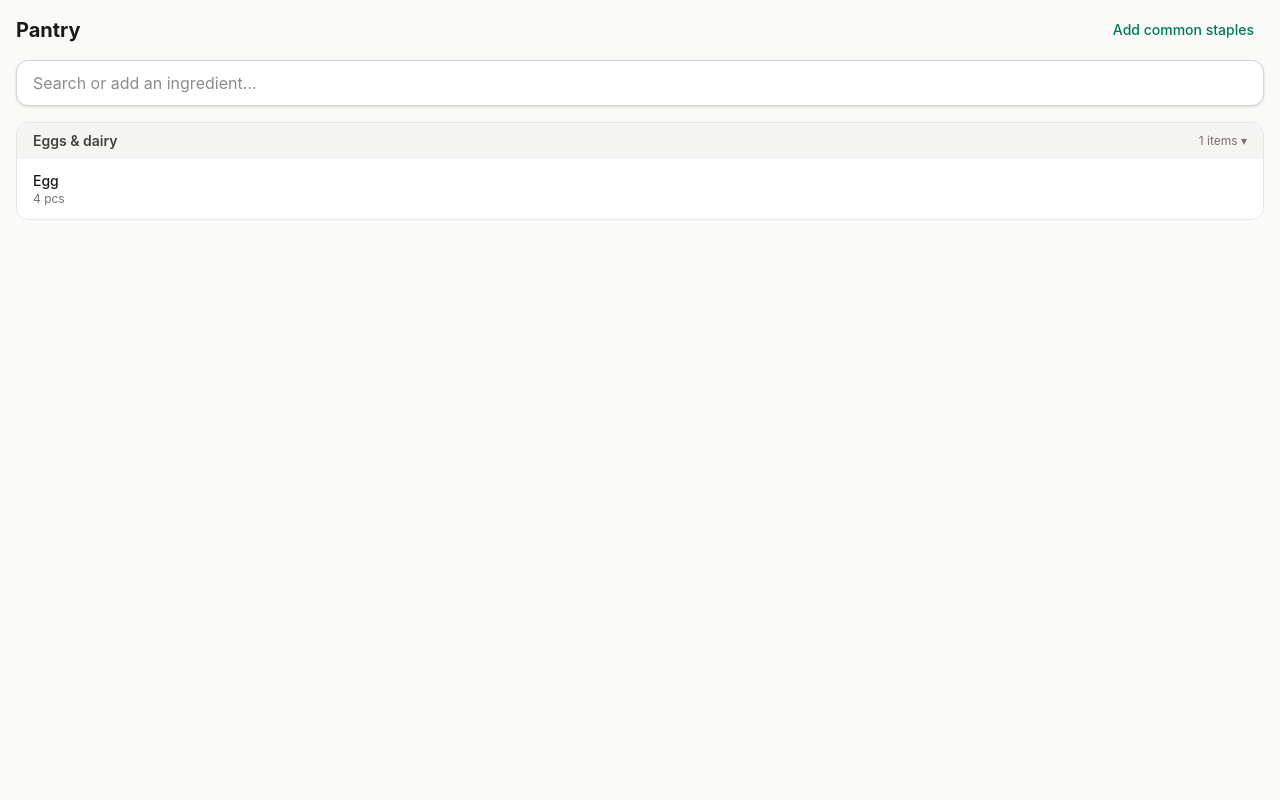
Test case: PantryPage › adds the bought amount to what is already on hand from search
The image size is (1280, 800).
Type "egg" into the search field at (640, 83), box top-left (16, 60), bottom-right (1264, 106)
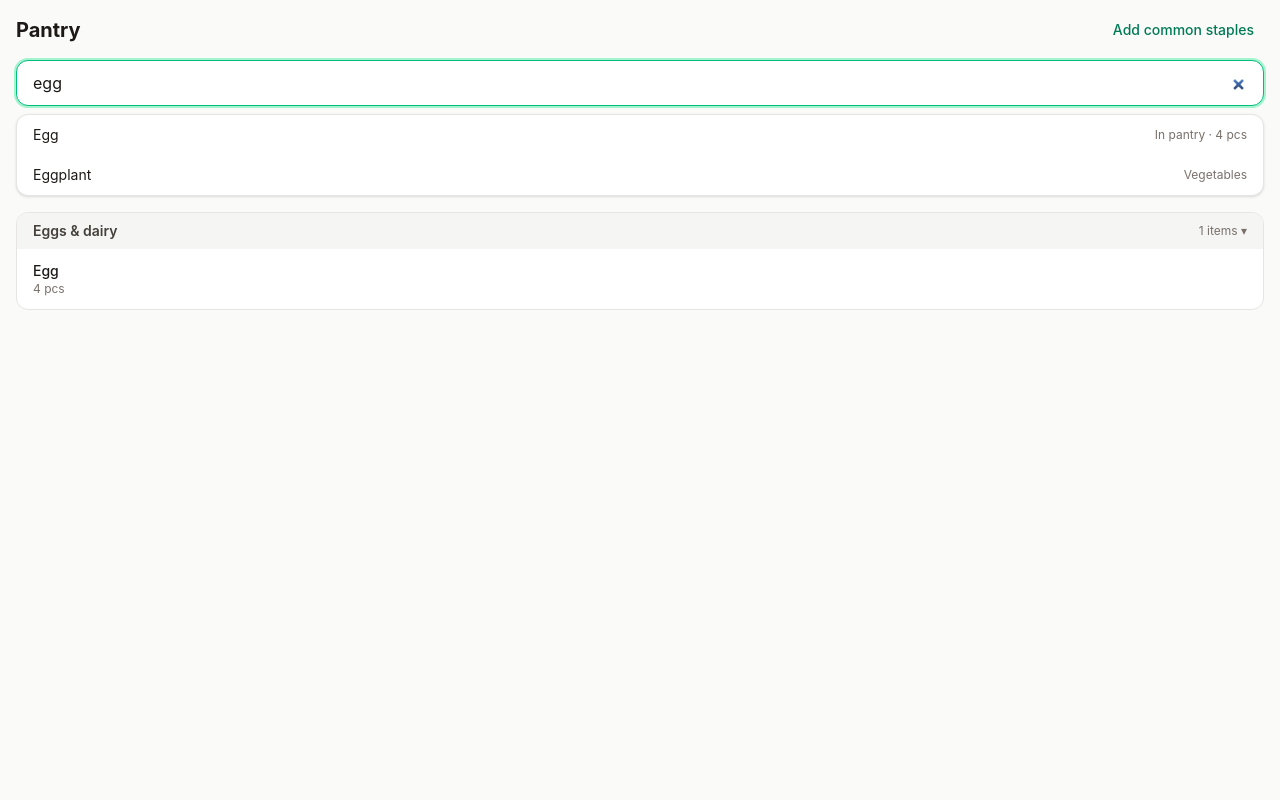
Expected: the text "In pantry · 4 pcs" is shown, top-left (1155, 127), bottom-right (1247, 143)
Click the button "Egg In pantry · 4 pcs" at (1201, 134), box top-left (17, 115), bottom-right (1263, 155)
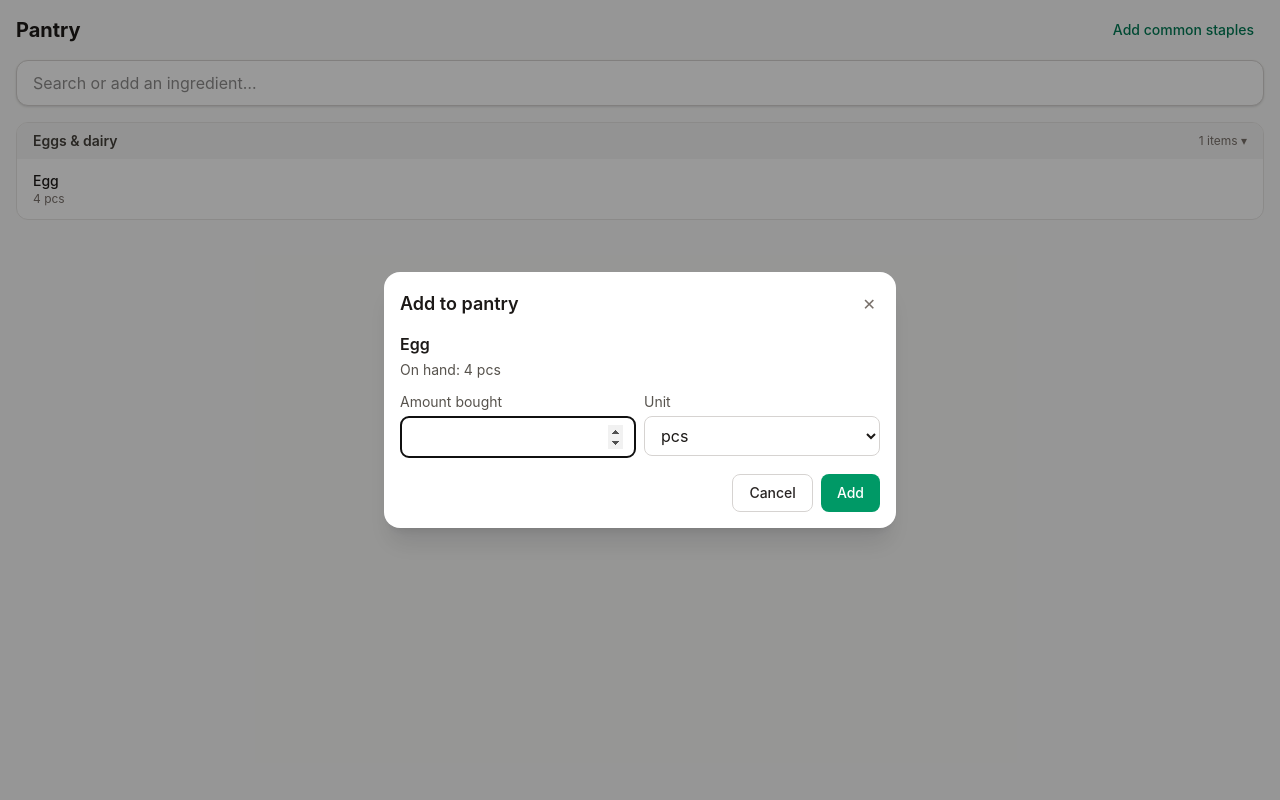
Expected: the text "On hand: 4 pcs" is shown, top-left (400, 361), bottom-right (501, 378)
Expected: the dropdown labelled "Unit" shows "pcs", top-left (644, 416), bottom-right (880, 456)
Type "6" into the number field labelled "Amount bought" at (518, 437), box top-left (400, 416), bottom-right (636, 458)
Then press Enter
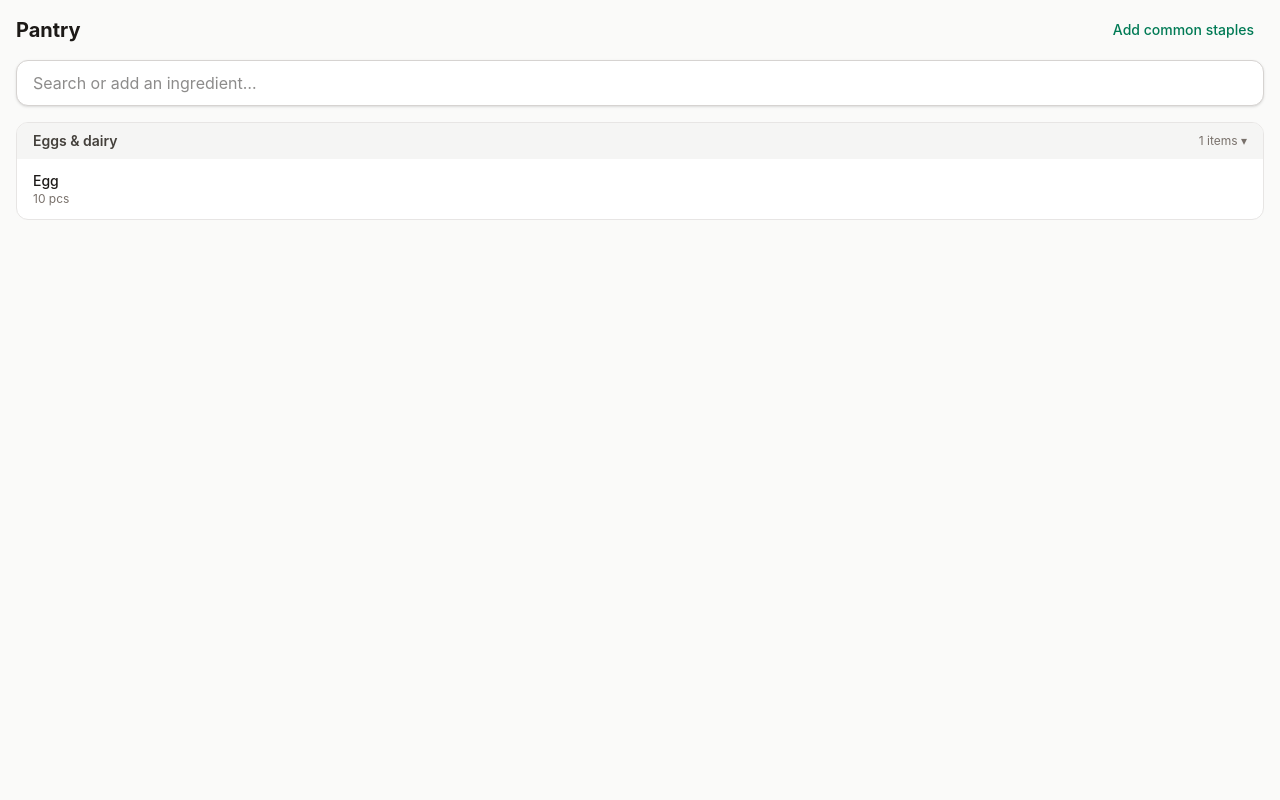
Expected: the dialog is gone
Expected: the text "10 pcs" is shown, top-left (33, 191), bottom-right (69, 207)
